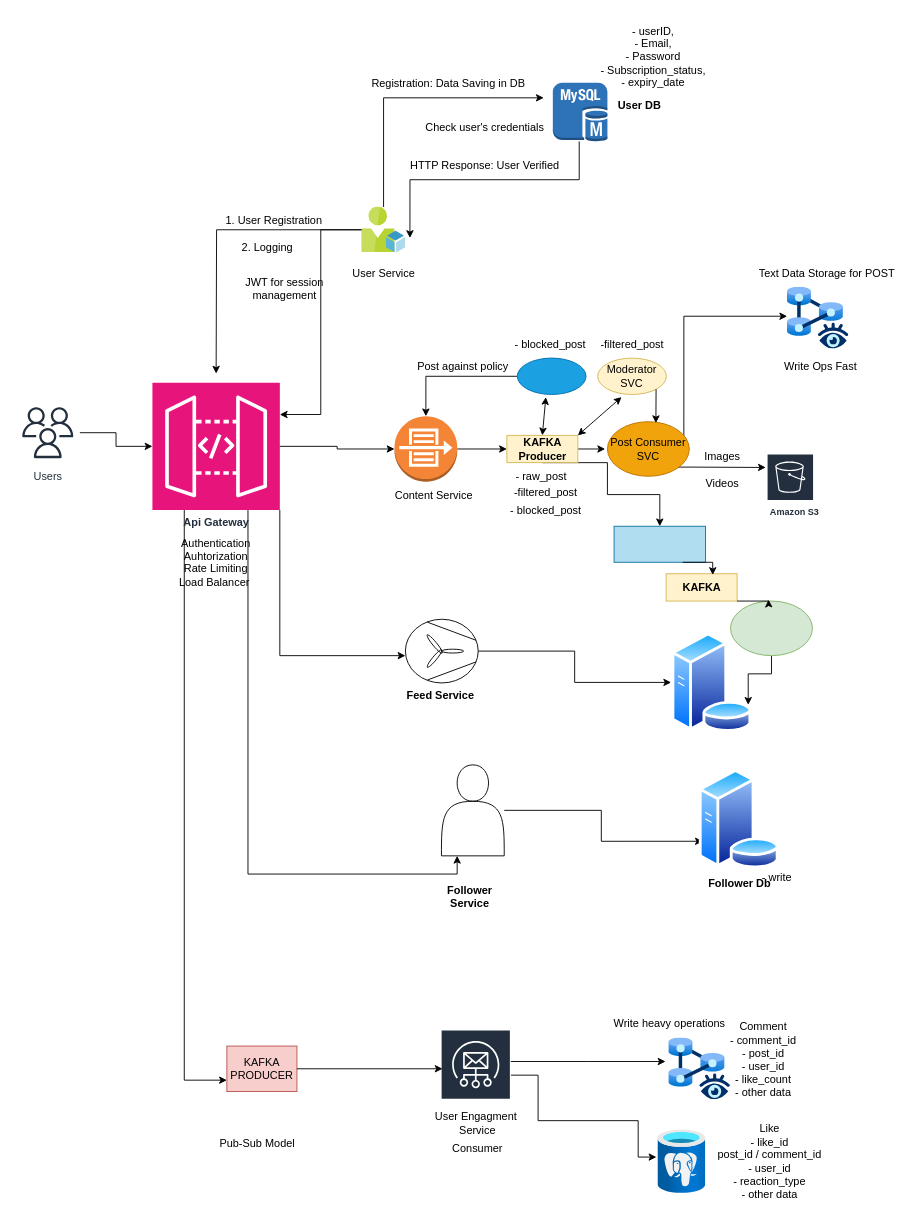
Some shapes in this 920 by 1222 pixel diagram are drawn without their labels. The shapes that lost their labels are listed below. From the top down, each one's centre as x and y in pixels, then its label:
the point at 551,375: Notification SVC
the point at 659,543: Fanout Svc (PUSH)
the point at 771,628: Fanout Consumer
the point at 711,682: Feed DB
